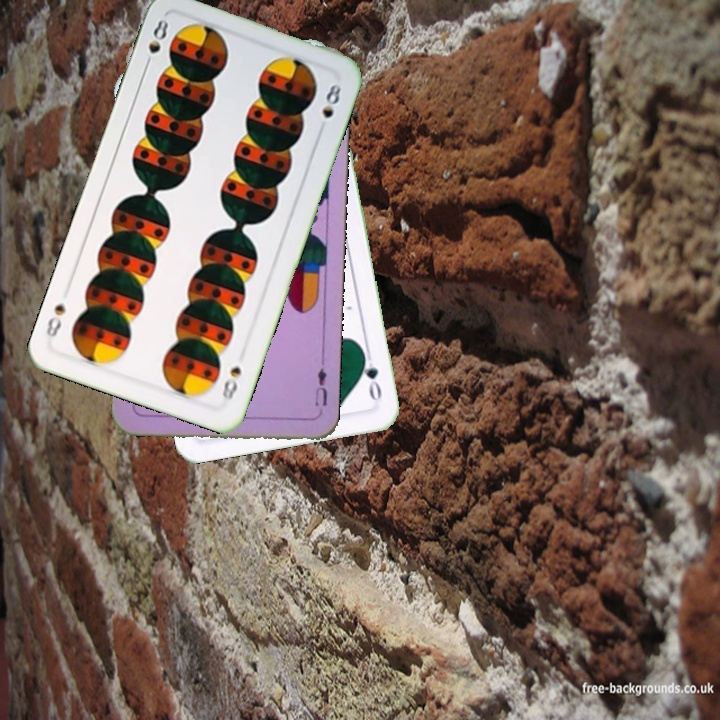EU: (311, 357, 330, 409)
GO: (358, 348, 384, 406)
S8: (140, 15, 171, 72), (218, 362, 244, 403)
